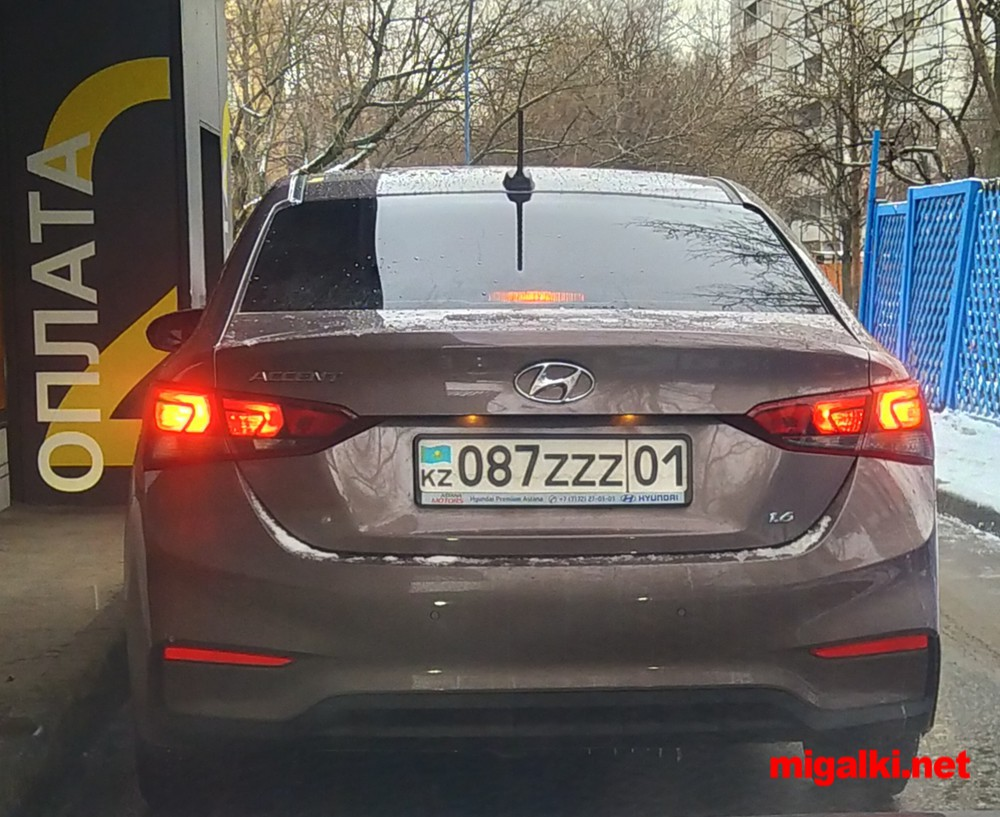license_plate: (413, 433, 694, 509)
